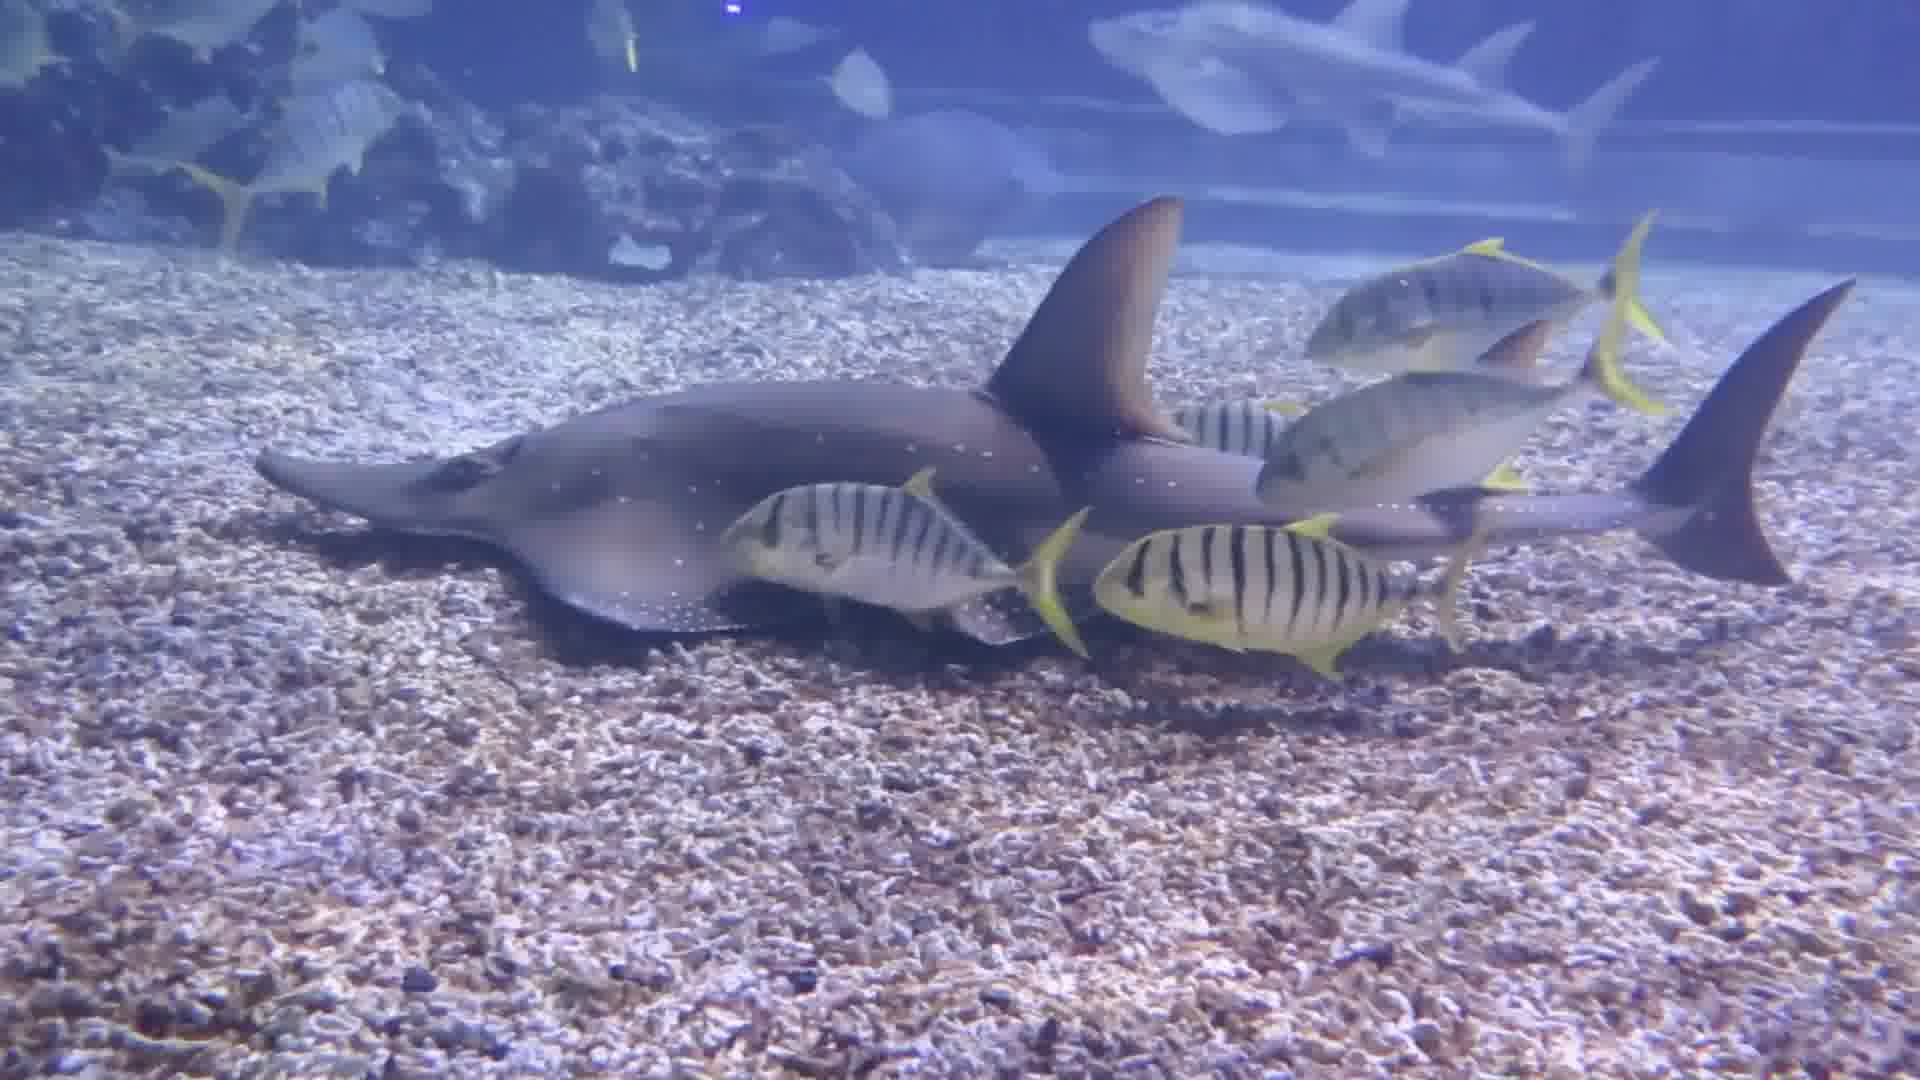Rhychobatus djiddensis: (193, 193, 1841, 671)
